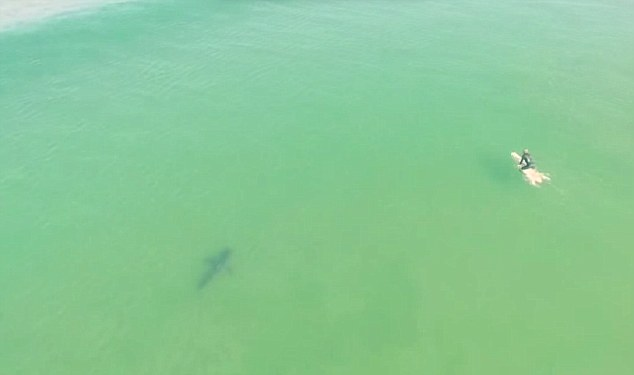shark: (190, 242, 238, 301)
surfer: (506, 147, 550, 191)
